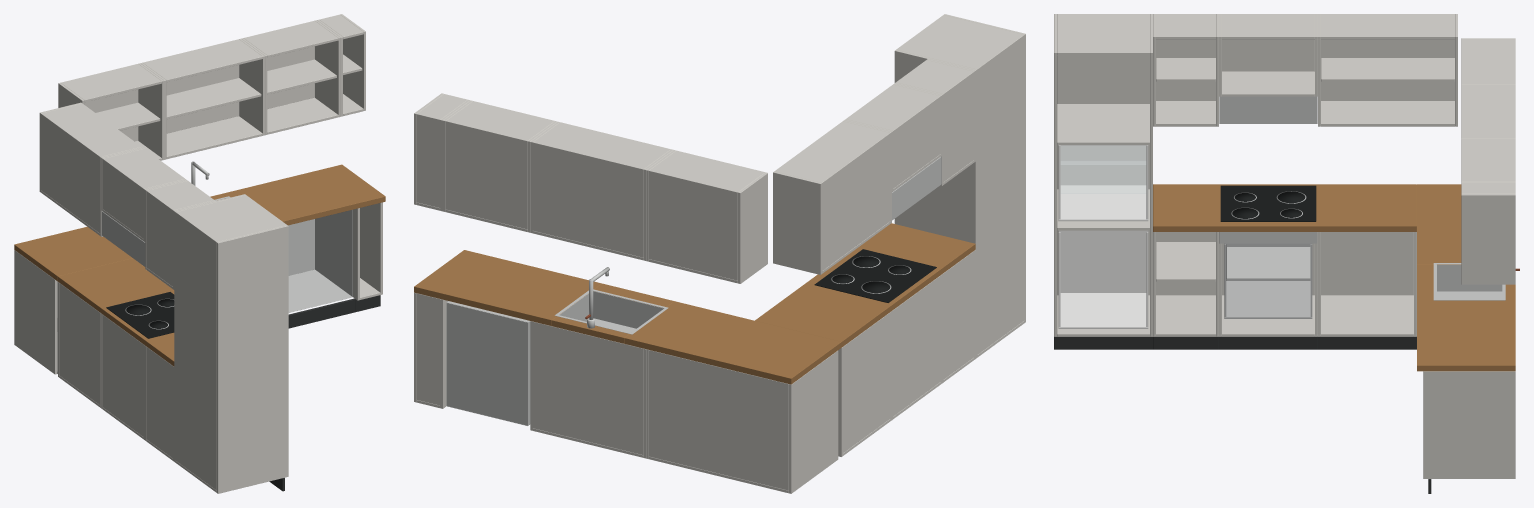
Rendered from l_kitchen_two_long_legs_body.glb.
3 renders of one model, left to right at view 1: azimuth 30°, elevation 25°; view 2: azimuth 150°, elevation 25°; view 3: azimuth 270°, elevation 25°, orthographic. The views are drawn at different scales.
Parts seen in each view (by area): view 1: l_kitchen_two_long_legs_body; view 2: l_kitchen_two_long_legs_body; view 3: l_kitchen_two_long_legs_body.
Part boxes in pixels (x1,y1,x2,y2): l_kitchen_two_long_legs_body: [14, 14, 385, 493]; l_kitchen_two_long_legs_body: [414, 14, 1025, 493]; l_kitchen_two_long_legs_body: [1054, 14, 1519, 493].
Bounding box in the file's own units: 2.6 × 2 × 2.83.
